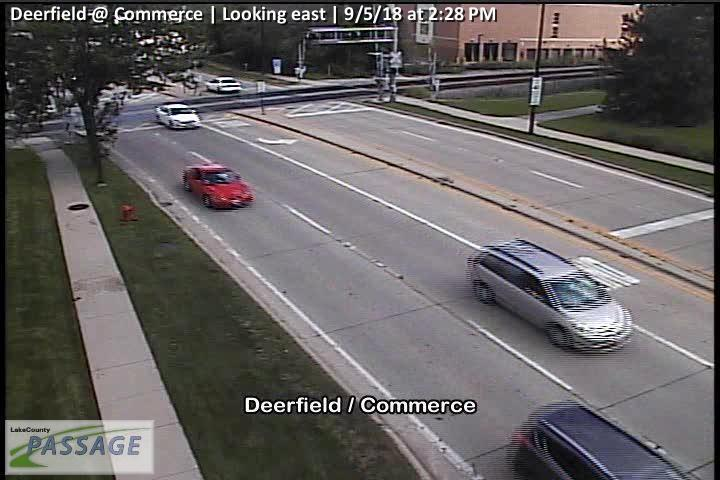SUV: (467, 239, 634, 353), (508, 401, 697, 480)
Sedan: (182, 163, 254, 210), (155, 104, 200, 128), (206, 77, 241, 92)
